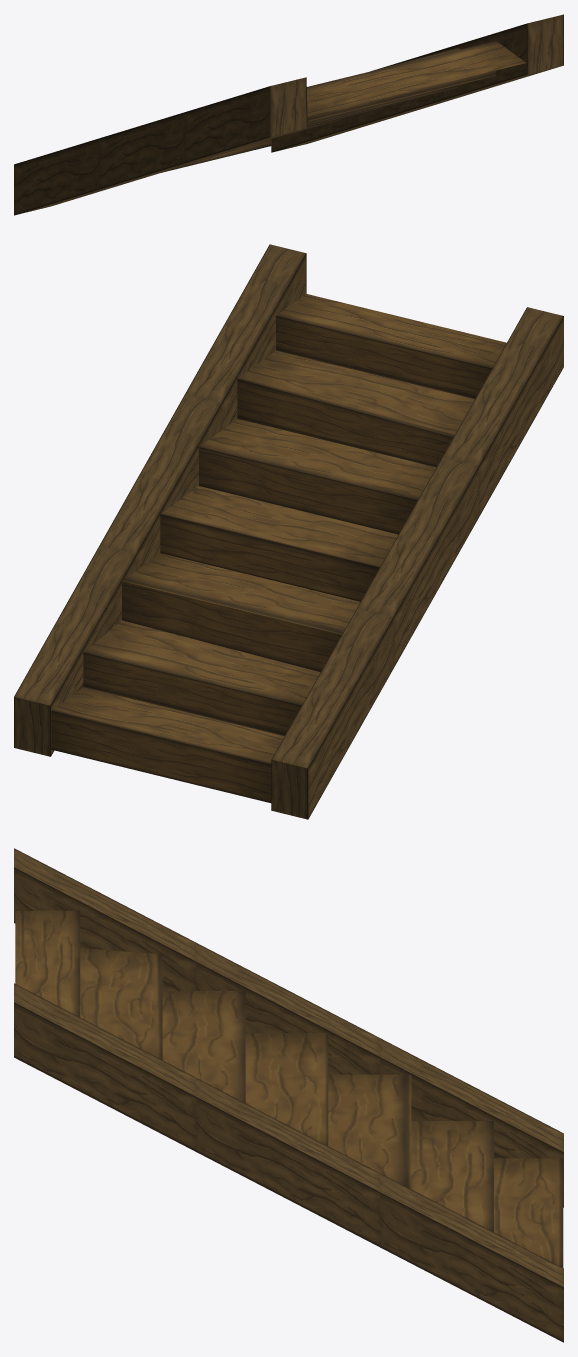
File: schody_01.fbx
3 views of the same model, one above another, from view 1: azimuth 30°, elevation 25°; view 2: azimuth 150°, elevation 25°; view 3: azimuth 270°, elevation 25° (orthographic). The views are drawn at different scales.
Visible parts, largest first — view 1: Cube; view 2: Cube; view 3: Cube.
Boxes of the visible parts, x1=… form: Cube: x1=14, y1=14, x2=563, y2=215; Cube: x1=14, y1=244, x2=563, y2=819; Cube: x1=14, y1=848, x2=563, y2=1342.
Size of the model in its own units: 598 by 614 by 900.
